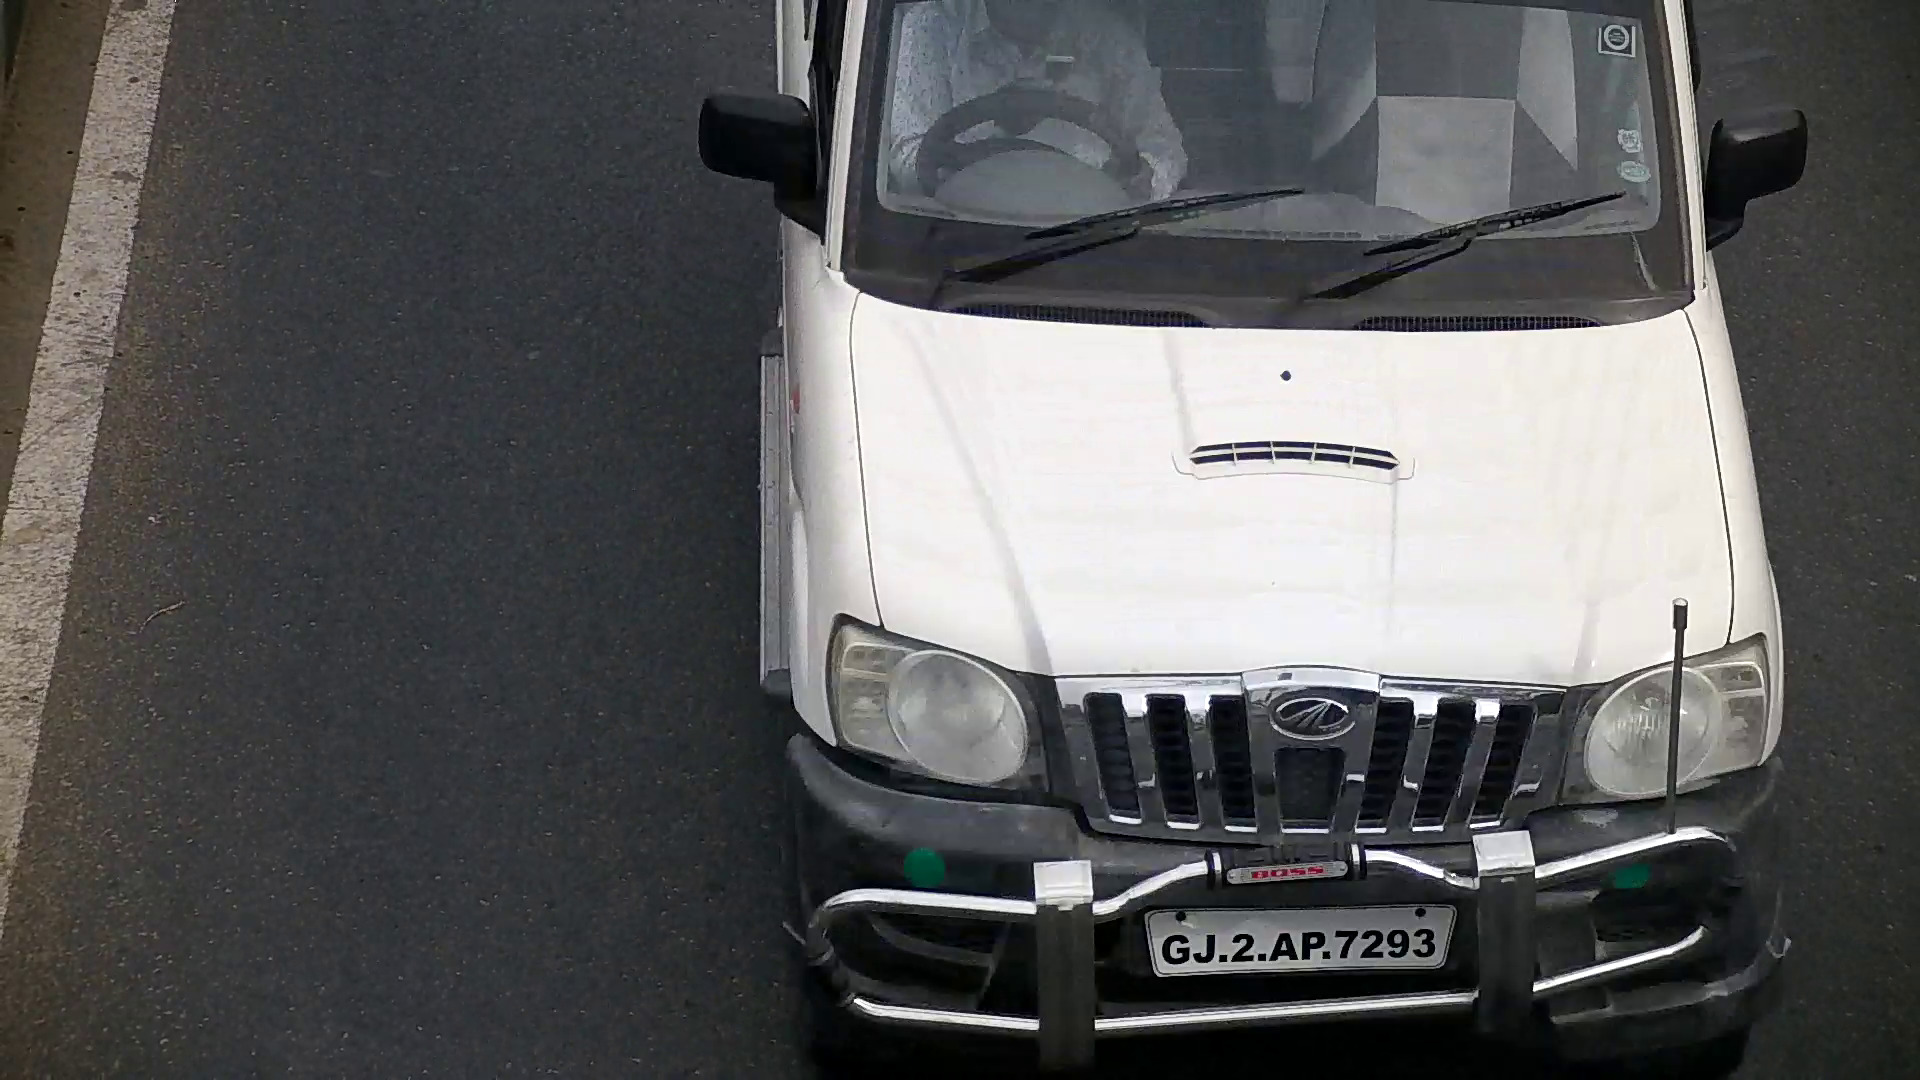numberplate: (1135, 899, 1457, 980)
